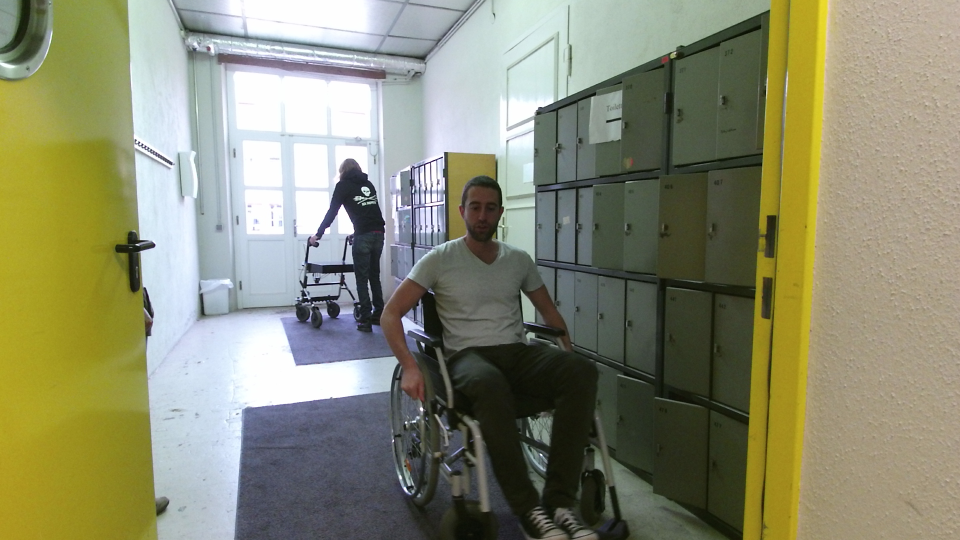wheelchair: (374, 170, 645, 540)
